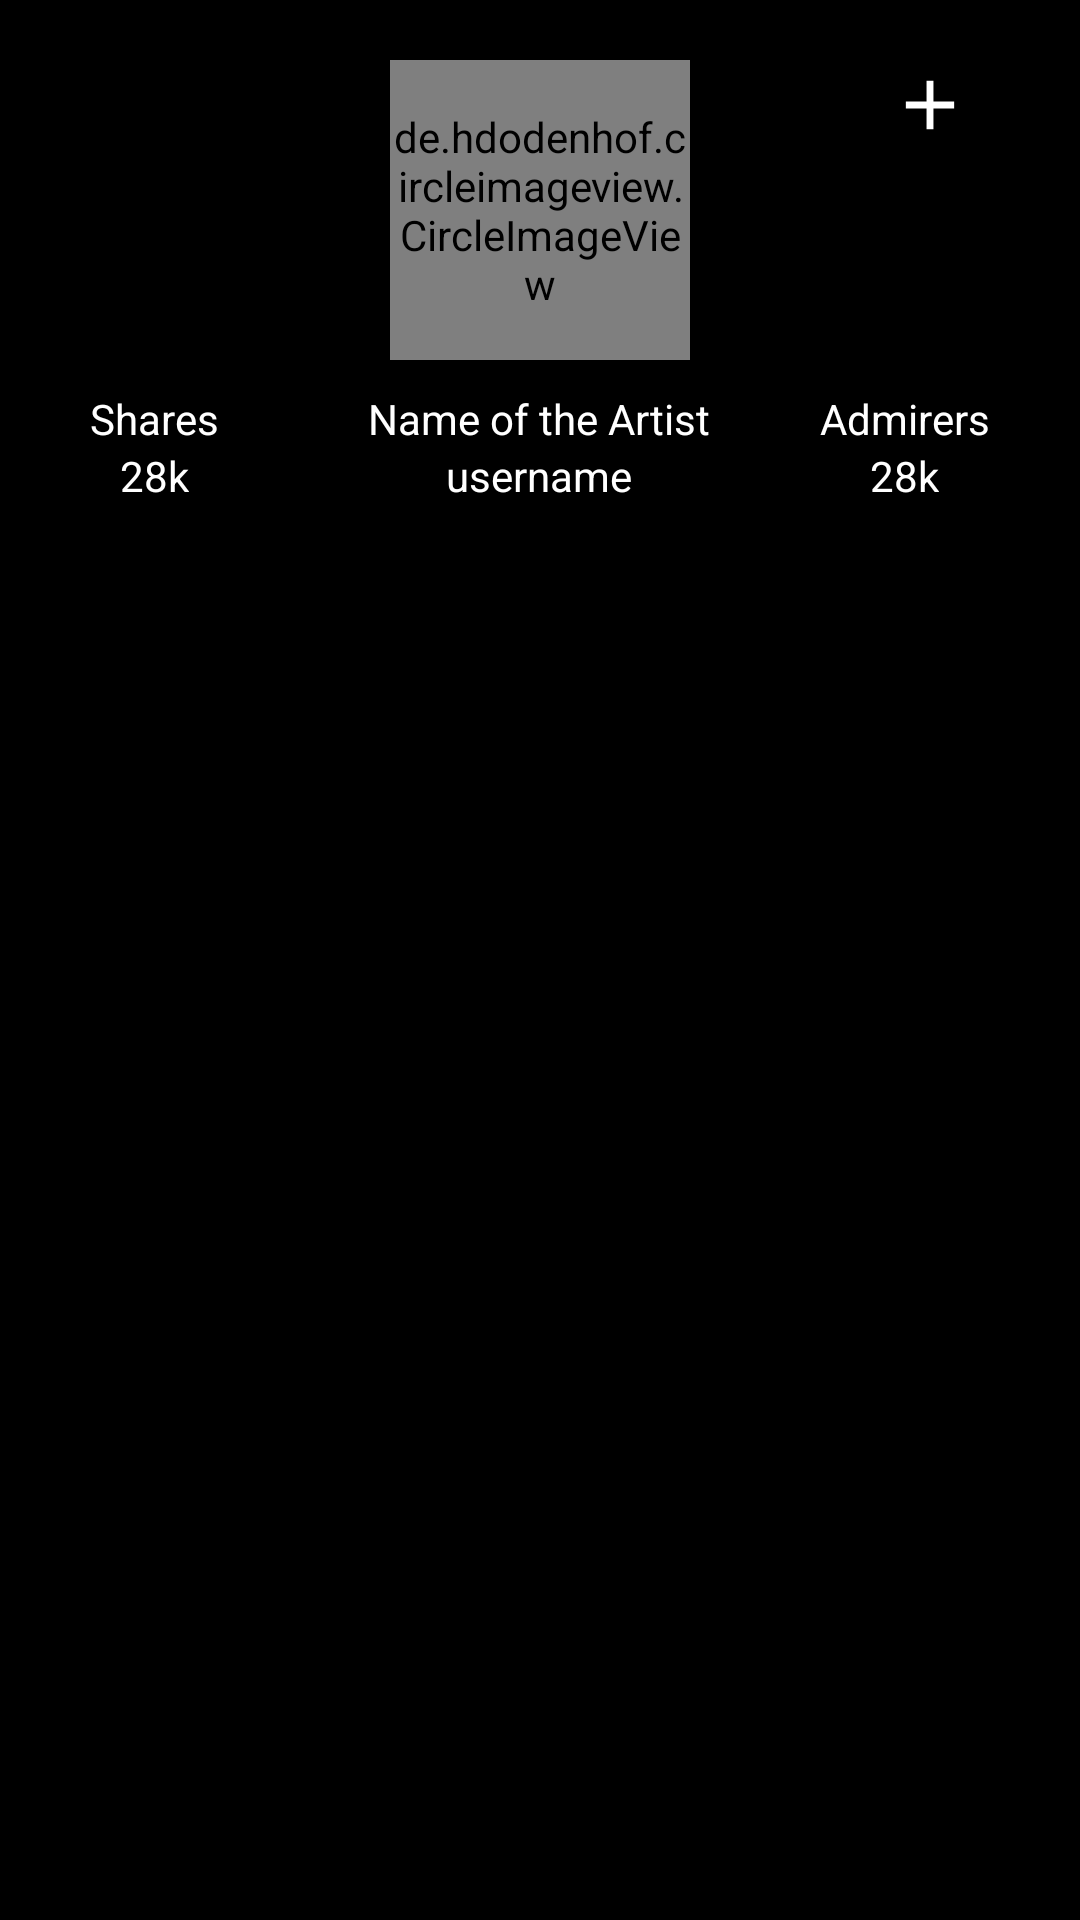

Named icons in this screenshot (1080w x 1920h) and their bounding boxes, (x1, y1, x2, y2):
add: (905, 80, 955, 130)
